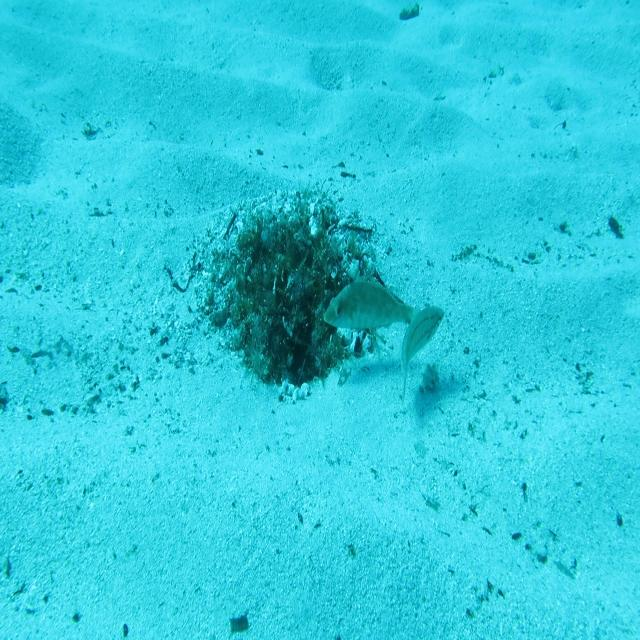BK_SW: (321, 271, 421, 339)
core_nest: (263, 231, 312, 267)
female: (399, 300, 446, 410)
nest: (210, 180, 419, 410)
vegetation: (397, 3, 421, 23)
